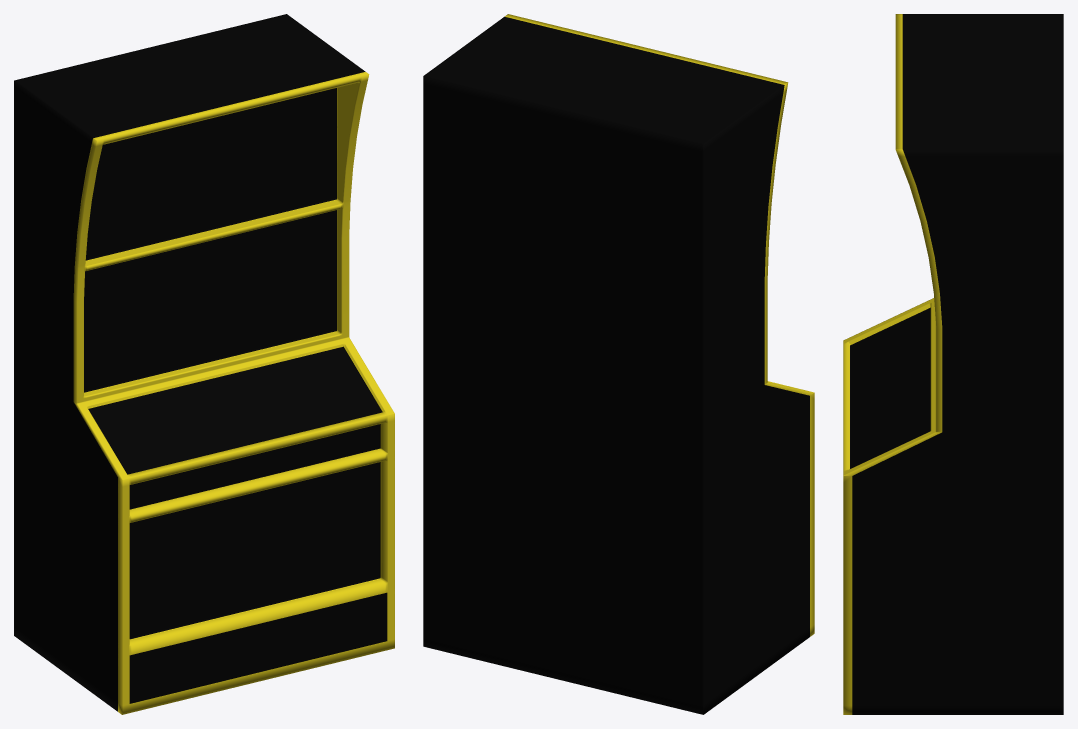
Rendered from gold_body.fbx.
3 renders of one model, left to right at view 1: azimuth 30°, elevation 25°; view 2: azimuth 150°, elevation 25°; view 3: azimuth 270°, elevation 25°, orthographic. The views are drawn at different scales.
Parts seen in each view (by area): view 1: cabinet; view 2: cabinet; view 3: cabinet.
Boxes of the visible parts, x1,y1,x2,y2 form: cabinet: (14, 14, 394, 714); cabinet: (423, 14, 814, 714); cabinet: (843, 14, 1063, 714).
Size of the model in its own units: 102 by 199 by 70.13.
